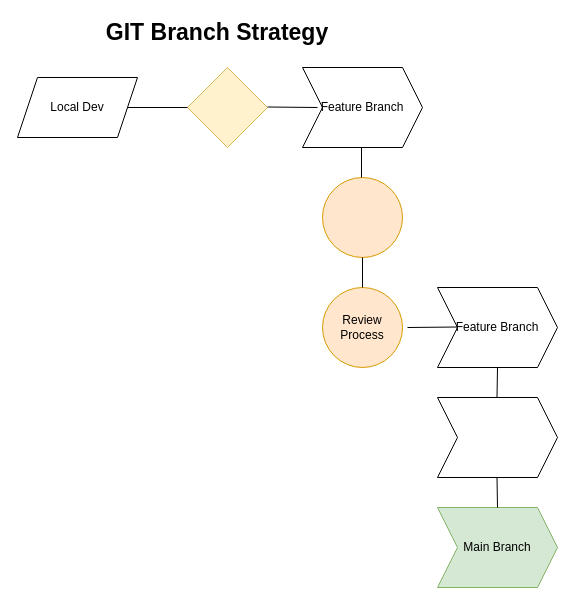
Image size: 575x605. Some labels were removed from this diagram. Here are the shapes that lost their labels. From the top down, the box of each, then its label:
(186, 66, 268, 148): Git
(322, 176, 402, 258): Pull Request
(436, 396, 558, 478): Dev Branch
